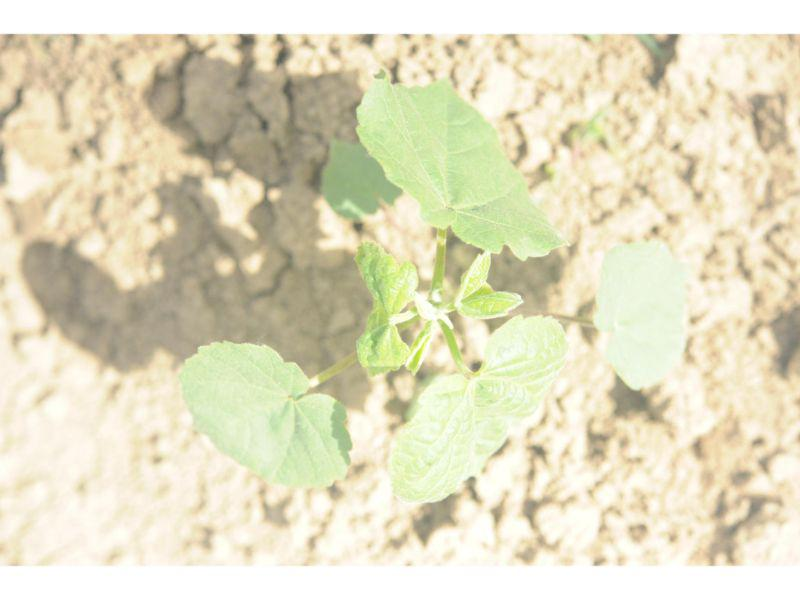velvet: (176, 72, 688, 507)
